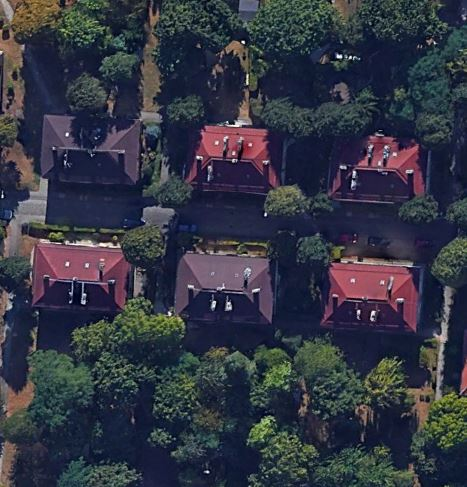block of flats: (313, 255, 429, 337), (173, 246, 282, 329), (28, 235, 138, 317), (35, 105, 145, 187), (177, 118, 287, 200), (318, 126, 428, 208)
